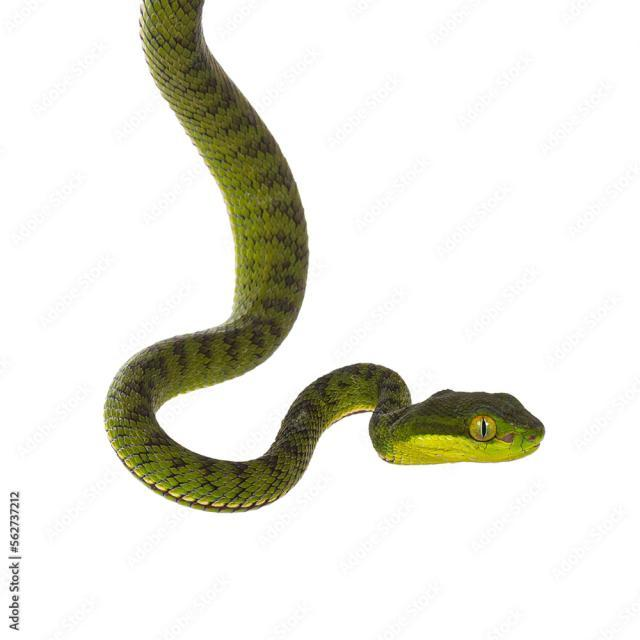Snake: (87, 0, 577, 549)
